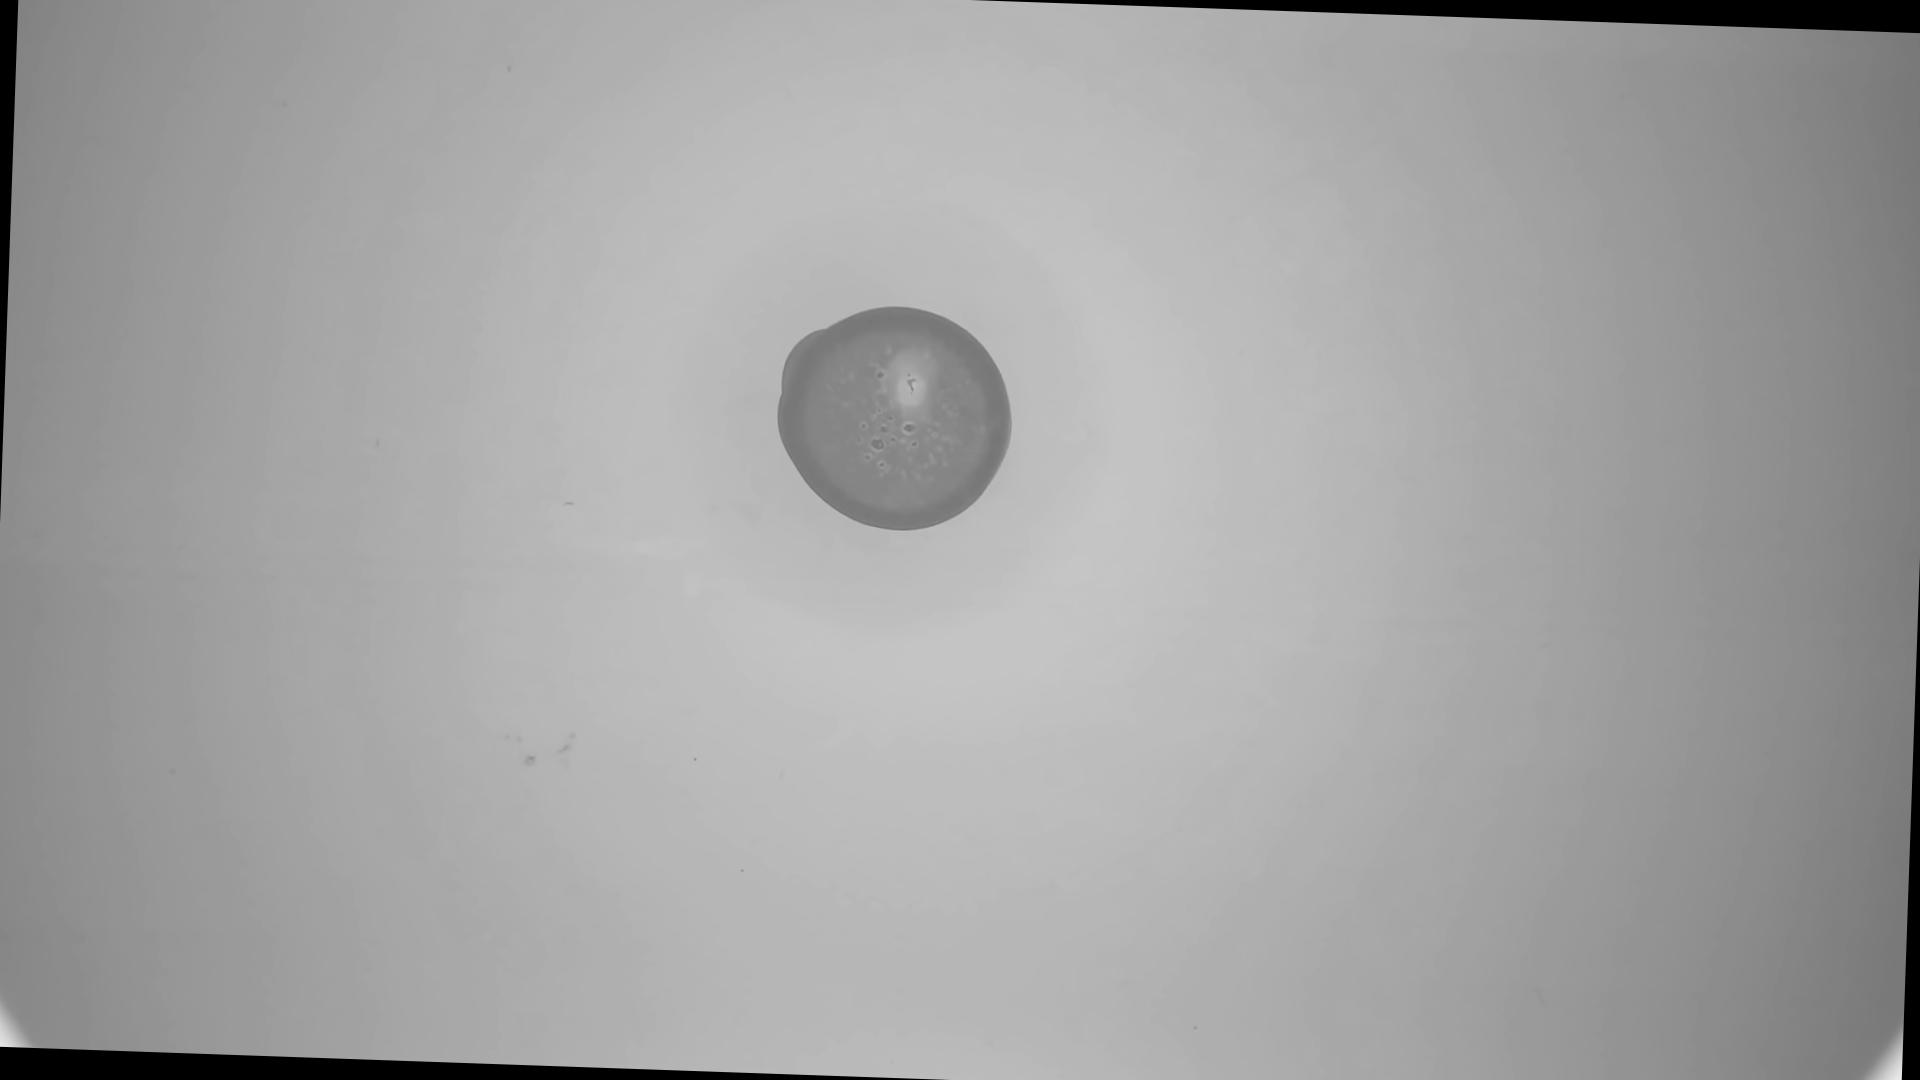abnormal: (773, 301, 1021, 538)
